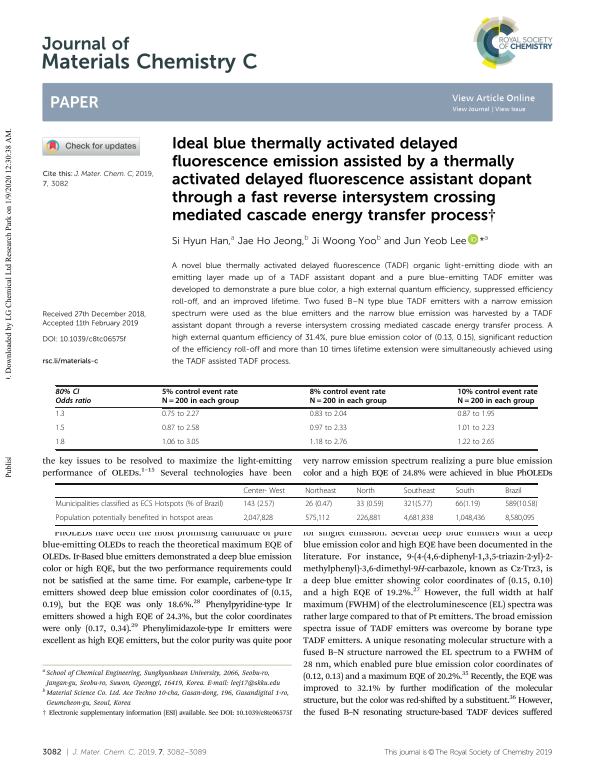borderless: (54, 384, 537, 449), (55, 482, 538, 525)
cell: (55, 499, 224, 509), (55, 513, 214, 523), (457, 388, 538, 406), (161, 388, 240, 406), (309, 388, 388, 406), (55, 388, 92, 405), (242, 486, 286, 495), (504, 499, 538, 509), (242, 499, 275, 509), (242, 513, 274, 523), (454, 513, 486, 523), (504, 513, 536, 523), (403, 513, 434, 523), (403, 499, 433, 509), (304, 486, 337, 495), (403, 486, 436, 495), (304, 499, 333, 509), (355, 499, 384, 509), (161, 411, 200, 418), (309, 411, 348, 418), (457, 411, 496, 418), (161, 425, 200, 432), (309, 425, 348, 432), (457, 425, 496, 432), (161, 439, 200, 446), (309, 439, 348, 446), (457, 439, 496, 446), (454, 499, 481, 509), (355, 513, 382, 523), (304, 513, 330, 523), (355, 486, 376, 495), (454, 486, 475, 495), (504, 486, 523, 495), (55, 411, 65, 418), (55, 425, 65, 432), (55, 439, 65, 446)
